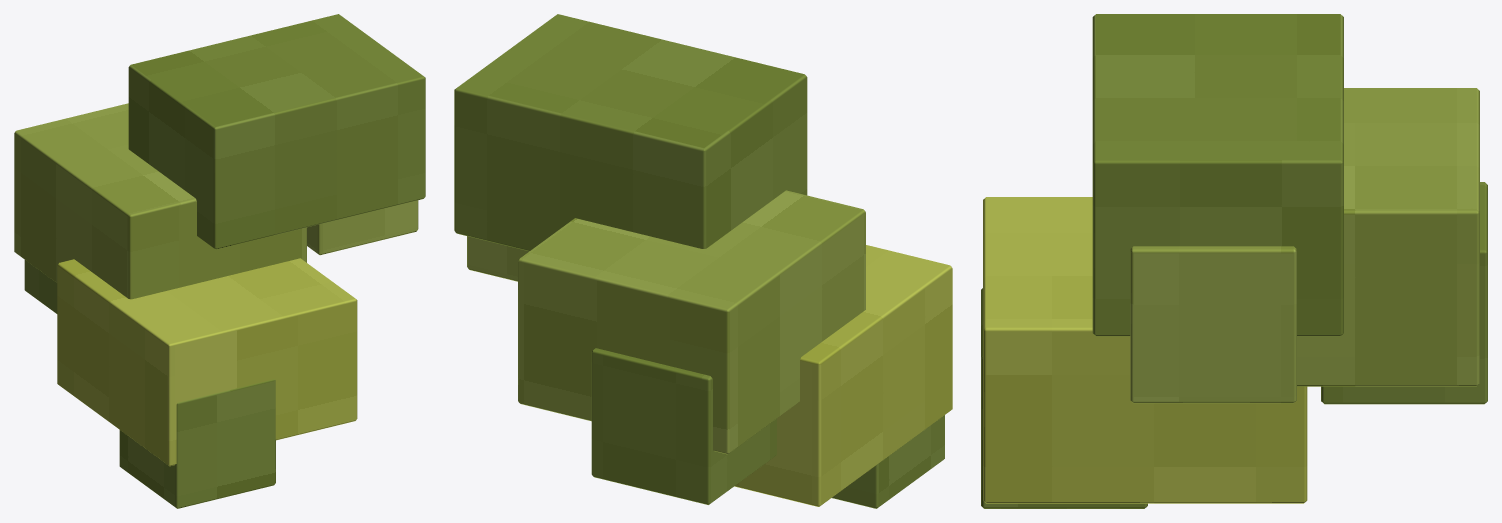
File: Rose-leaf-spray.glb
3 views of the same model, side by side, from view 1: azimuth 30°, elevation 25°; view 2: azimuth 150°, elevation 25°; view 3: azimuth 270°, elevation 25° (orthographic). The views are drawn at different scales.
Parts seen in each view (by area): view 1: Rose-leaf-spray; view 2: Rose-leaf-spray; view 3: Rose-leaf-spray.
Part boxes in pixels (x1,y1,x2,y2): Rose-leaf-spray: (14, 14, 425, 508); Rose-leaf-spray: (454, 14, 952, 508); Rose-leaf-spray: (981, 14, 1487, 508).
Size of the model in its own units: 0.1919 by 0.2034 by 0.1942.
Materials: 3 (3 with a texture image).
